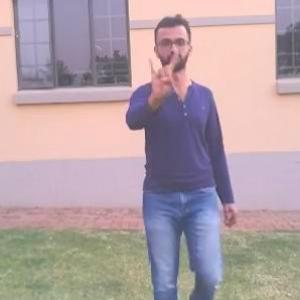takeoff-hand: (144, 46, 183, 100)
